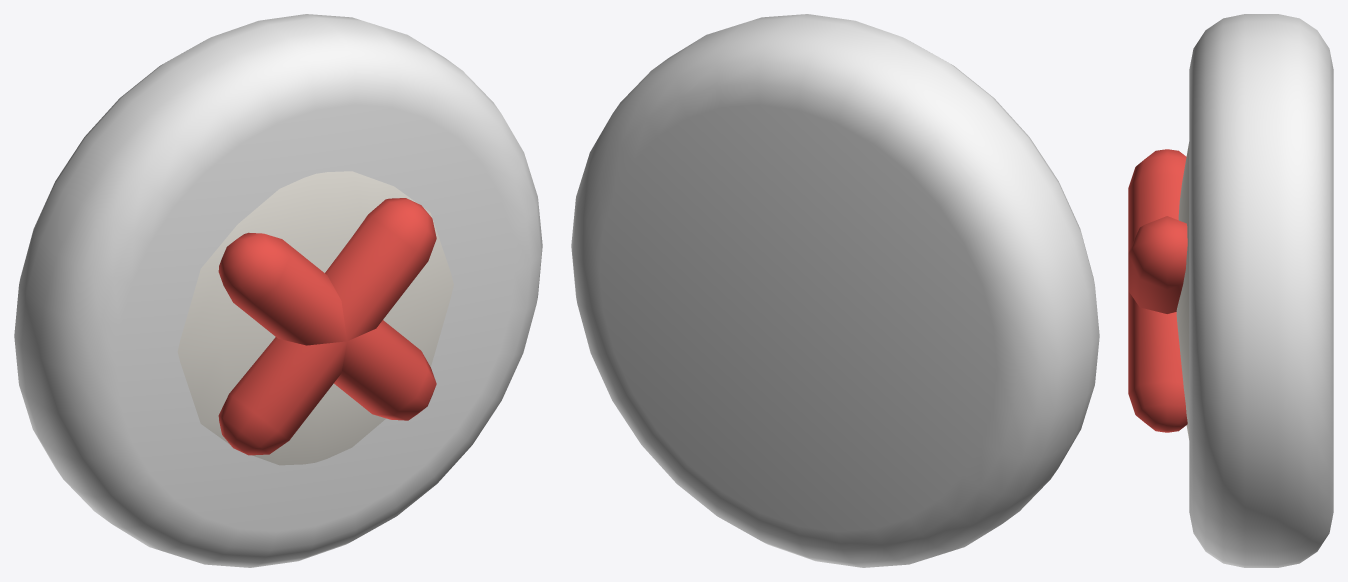
Rendered from git_ci_fail.glb.
3 renders of one model, left to right at view 1: azimuth 30°, elevation 25°; view 2: azimuth 150°, elevation 25°; view 3: azimuth 270°, elevation 25°, orthographic. The views are drawn at different scales.
Visible parts, largest first — view 1: git_ci_fail; view 2: git_ci_fail; view 3: git_ci_fail.
Part boxes in pixels (<box>): git_ci_fail: <box>14,14,542,567</box>; git_ci_fail: <box>571,14,1099,567</box>; git_ci_fail: <box>1128,14,1333,567</box>.
Size of the model in its own units: 1 by 1 by 0.37.
